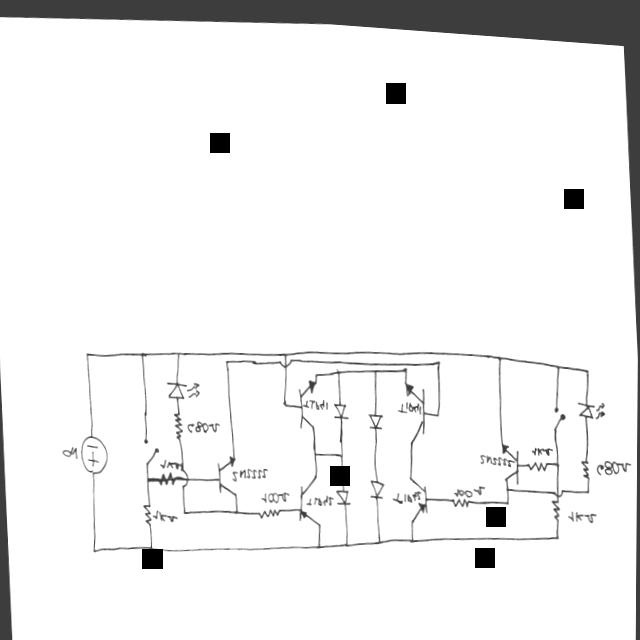crossover: (179, 464, 188, 486), (279, 352, 292, 364), (552, 479, 564, 488)
diode: (164, 376, 201, 399), (575, 390, 609, 410), (367, 472, 387, 494), (332, 395, 350, 416), (335, 481, 353, 501), (367, 405, 384, 424)
junction: (137, 346, 146, 356), (90, 544, 98, 555), (83, 347, 90, 359), (315, 535, 323, 545), (433, 351, 441, 361), (344, 532, 351, 543), (553, 353, 561, 362), (282, 394, 289, 404), (376, 530, 383, 540), (174, 346, 182, 354), (223, 354, 230, 362), (145, 472, 151, 481), (182, 504, 188, 513), (372, 362, 379, 369), (554, 452, 561, 459), (148, 541, 154, 549), (402, 359, 408, 367), (504, 477, 512, 483), (497, 345, 503, 353), (410, 528, 415, 537), (234, 503, 240, 510), (435, 404, 441, 411), (586, 478, 592, 485), (335, 362, 340, 370), (555, 524, 560, 532), (312, 446, 318, 452), (504, 491, 510, 497), (338, 447, 343, 454), (282, 346, 287, 352), (584, 358, 589, 364)
resistor: (255, 501, 281, 517), (157, 467, 178, 486), (173, 406, 184, 437), (525, 450, 549, 464), (140, 499, 152, 524), (580, 447, 592, 471), (551, 488, 562, 513), (451, 489, 472, 502)
source: (79, 432, 110, 474)
switch: (549, 394, 568, 426), (141, 433, 160, 464)
text: (230, 461, 269, 480), (595, 448, 632, 466), (480, 445, 515, 460), (451, 475, 486, 490), (184, 416, 221, 430), (391, 481, 422, 497), (305, 488, 335, 502), (396, 393, 421, 408), (152, 506, 178, 520), (567, 501, 597, 513), (260, 486, 290, 498), (302, 392, 329, 405), (62, 441, 79, 457), (158, 455, 179, 466), (530, 437, 553, 447)
transistor: (403, 375, 430, 438), (295, 468, 323, 523), (296, 373, 320, 428), (406, 468, 430, 518), (498, 429, 522, 477), (214, 450, 239, 492)
